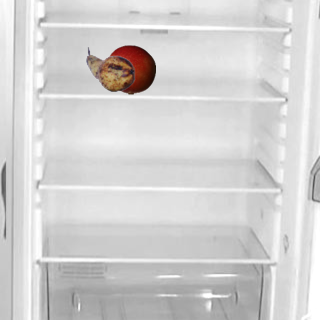Apple Braeburn: (105, 44, 155, 94)
Pear Abate: (85, 44, 135, 94)
